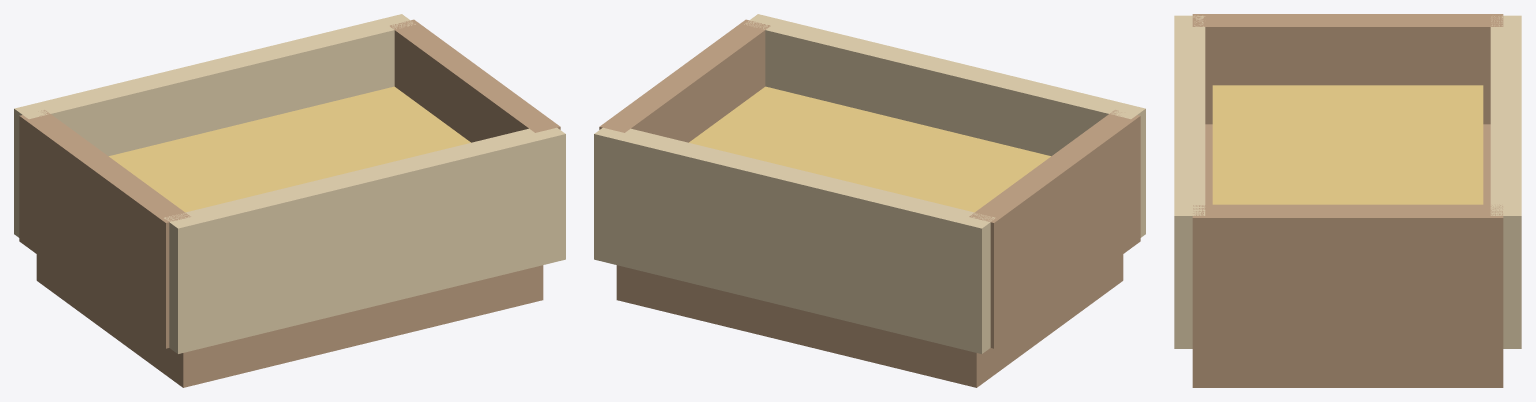
The model's file is feeder.glb.
The picture shows the model from 3 angles, left to right: view 1: azimuth 30°, elevation 25°; view 2: azimuth 150°, elevation 25°; view 3: azimuth 270°, elevation 25°; orthographic projection. The views are drawn at different scales.
Visible parts, largest first — view 1: Side, Side.001, End, Feed, Base, End.001; view 2: Side.001, Side, End, Feed, Base, End.001; view 3: End.001, Feed, End, Base, Side, Side.001.
Part boxes in pixels (left/top/right/bottom): Side: left=164, top=127, right=565, bottom=353; Side.001: left=14, top=14, right=415, bottom=237; End: left=19, top=110, right=190, bottom=348; Feed: left=109, top=86, right=470, bottom=212; Base: left=36, top=254, right=543, bottom=387; End.001: left=390, top=19, right=560, bottom=142; Side.001: left=594, top=127, right=995, bottom=353; Side: left=744, top=14, right=1145, bottom=237; End: left=969, top=110, right=1140, bottom=348; Feed: left=689, top=86, right=1050, bottom=212; Base: left=616, top=254, right=1123, bottom=387; End.001: left=599, top=19, right=770, bottom=142; End.001: left=1192, top=204, right=1503, bottom=350; Feed: left=1212, top=85, right=1483, bottom=204; End: left=1192, top=14, right=1503, bottom=124; Base: left=1192, top=124, right=1503, bottom=387; Side: left=1174, top=15, right=1205, bottom=348; Side.001: left=1490, top=15, right=1521, bottom=348.
Size of the model in its own units: 0.855 by 0.35 by 0.615.
